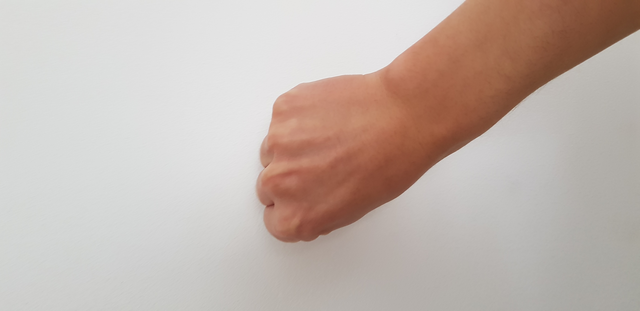Rock: (211, 58, 461, 254)
